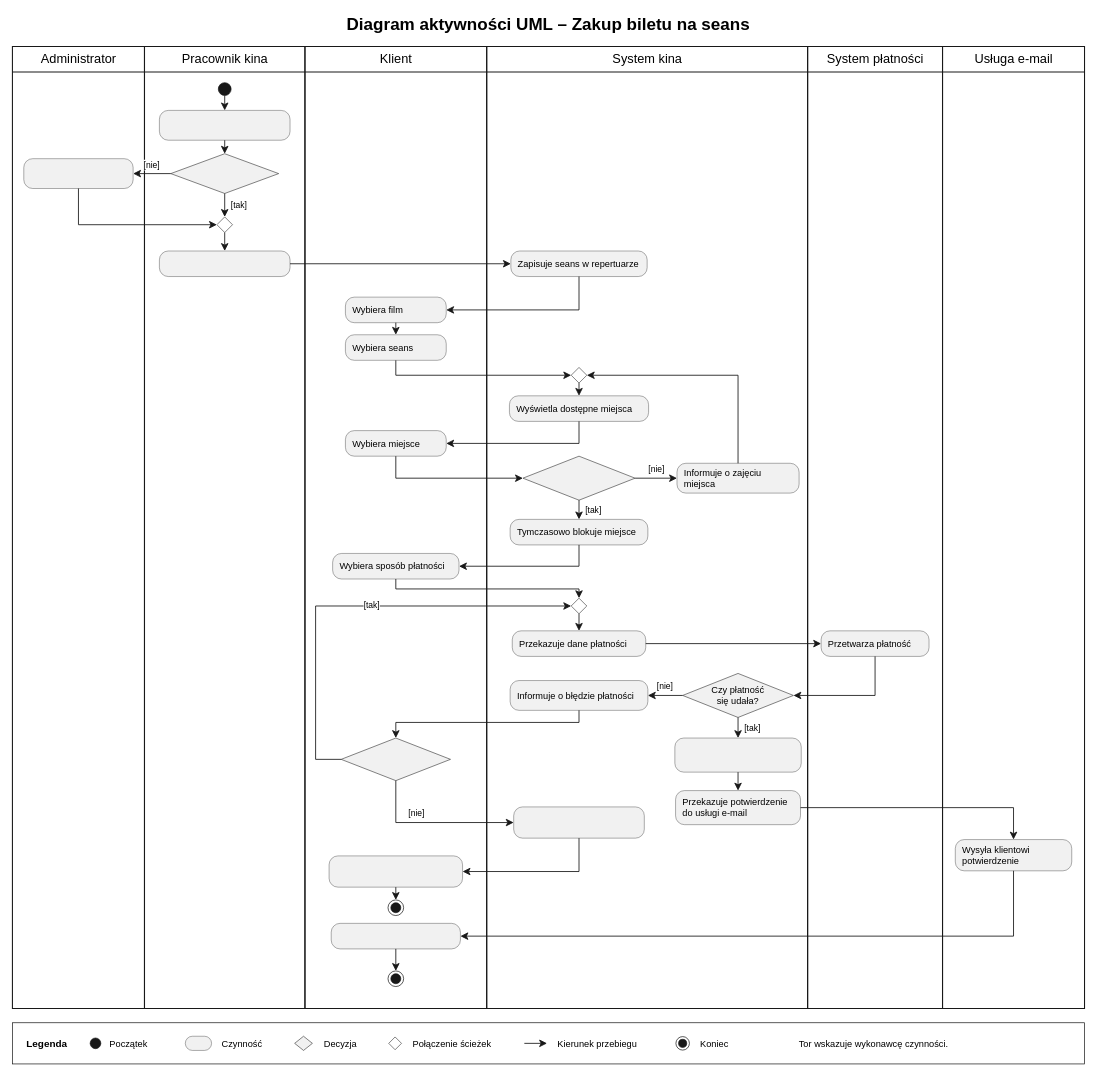
Image size: 1098x1076. Some labels were removed from this diagram. Each missing label, with the centre of its shape:
"Anuluje zakup i zwalnia miejsce" goes at (578,822).
"Czy miejsce jest dostępne?" goes at (578,478).
"Ma uprawnienia?" goes at (224,173).
"Nadaje pracownikowi uprawnienia" goes at (78,173).
"Otrzymuje informację o anulowaniu" goes at (395,871).
"Otrzymuje potwierdzenie" goes at (395,936).
"Ponowić płatność?" goes at (395,759).
"Przechodzi do dodawania seansu" goes at (224,125).
"Wybiera film, salę i termin" goes at (224,263).
"Zapisuje zakup i oznacza miejsce jako zajęte" goes at (737,755).
